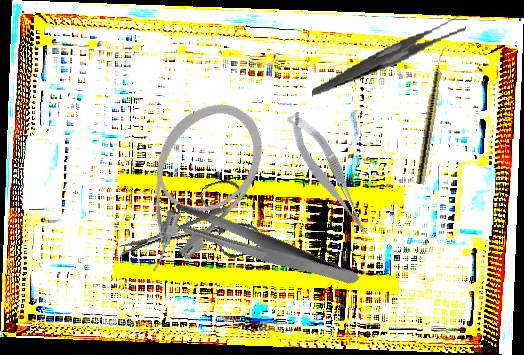Cannula: (100, 84, 284, 290)
Dressing Forceps: (165, 164, 362, 331), (304, 13, 473, 97)
Handpiece: (415, 45, 448, 186)
Iris Scissors: (108, 174, 264, 290)
Micro Scissor: (282, 105, 374, 245)
